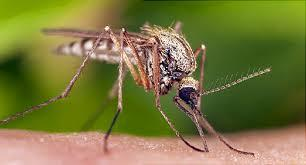Insects: (0, 14, 276, 160)
